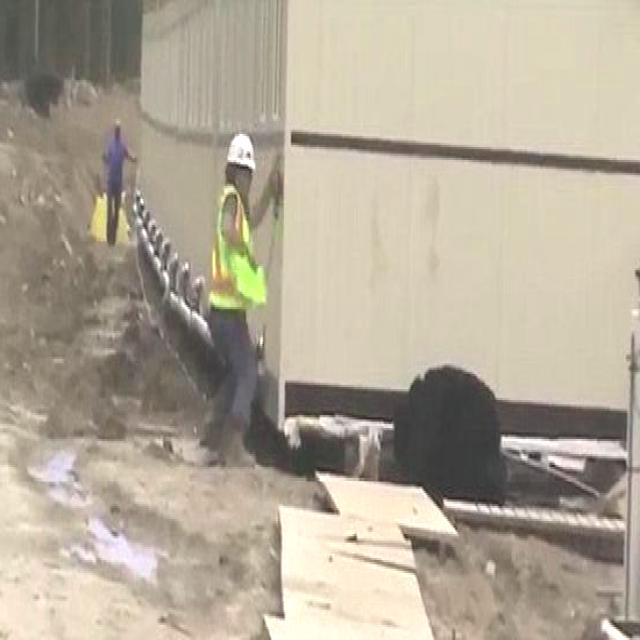head_helmet: (221, 130, 260, 174)
person: (184, 124, 285, 487)
shoes: (211, 418, 260, 470)
vest: (206, 182, 263, 314)
